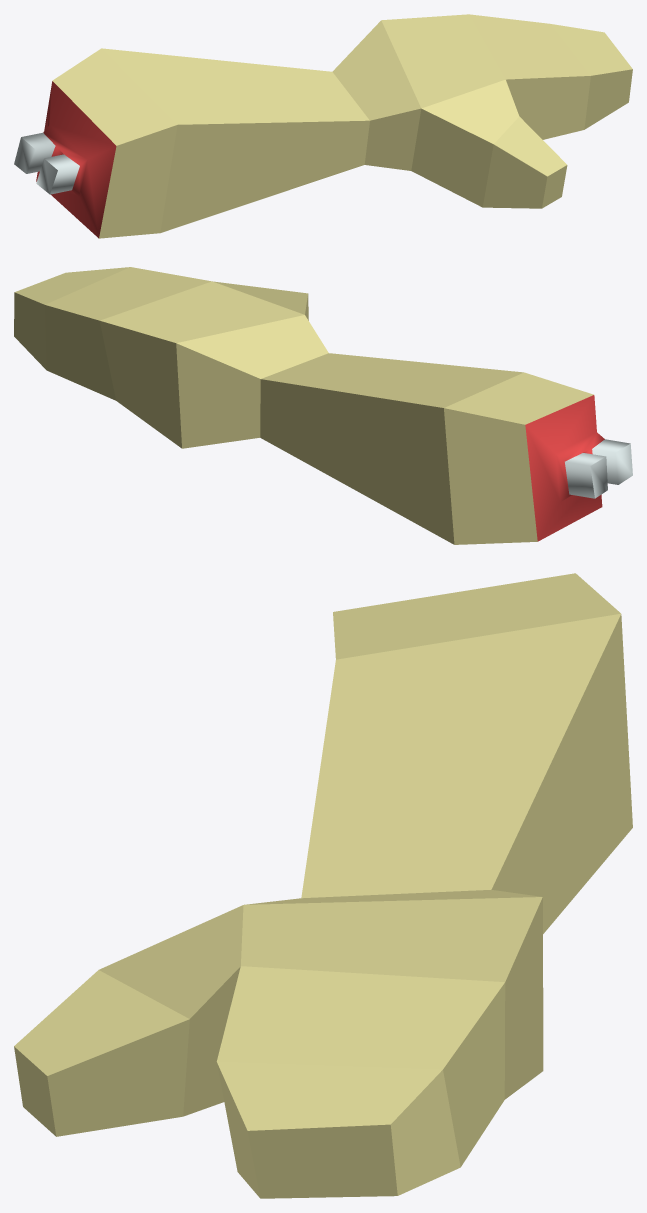
File: LowPolyHand.fbx
The picture shows the model from 3 angles, top to bottom: view 1: azimuth 30°, elevation 25°; view 2: azimuth 150°, elevation 25°; view 3: azimuth 270°, elevation 25°; orthographic projection. The views are drawn at different scales.
Visible parts, largest first — view 1: LowPolyHand; view 2: LowPolyHand; view 3: LowPolyHand.
Part boxes in pixels (box(x1,y1,x2,y2)): LowPolyHand: box(14, 14, 632, 238); LowPolyHand: box(14, 267, 632, 544); LowPolyHand: box(14, 573, 632, 1198).
Bounding box in the file's own units: 47.21 × 10.82 × 23.66.
